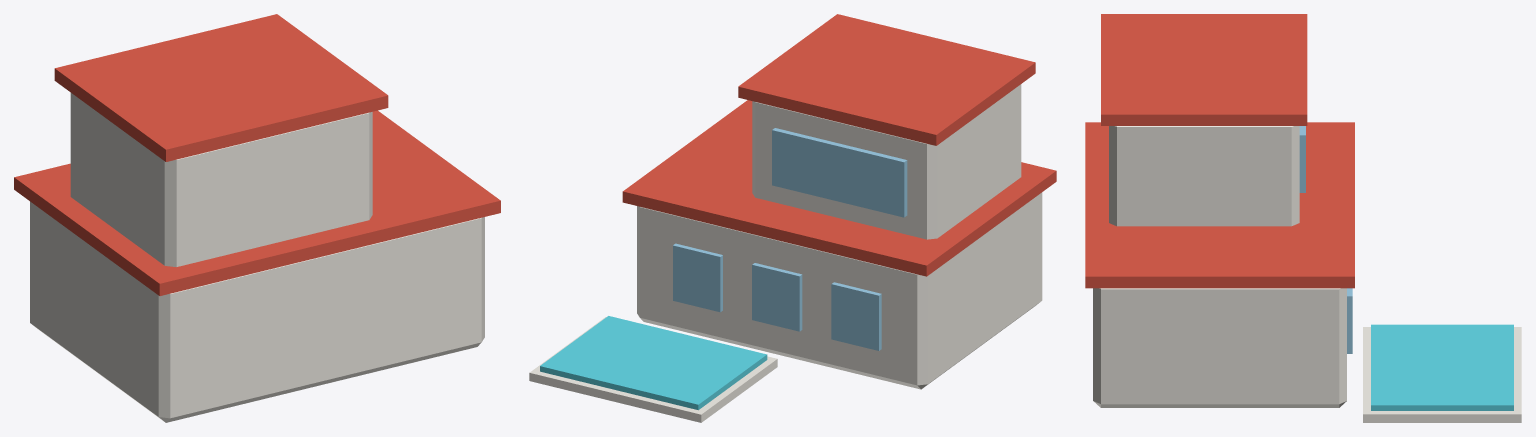
File: house_villa.glb
3 views of the same model, side by side, from view 1: azimuth 30°, elevation 25°; view 2: azimuth 150°, elevation 25°; view 3: azimuth 270°, elevation 25° (orthographic). The views are drawn at different scales.
Parts seen in each view (by area): view 1: house_villa; view 2: house_villa; view 3: house_villa.
Part boxes in pixels (x1,y1,x2,y2): house_villa: [14, 14, 500, 422]; house_villa: [529, 14, 1056, 422]; house_villa: [1085, 14, 1521, 422].
Bounding box in the file's own units: 2.4 × 1.77 × 2.75.
Materials: 1 (1 with a texture image).
